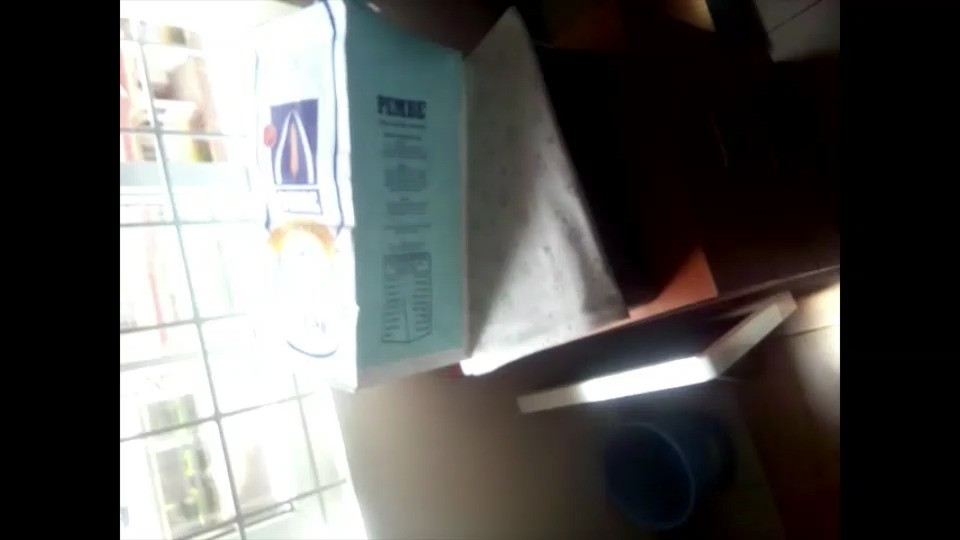wheat_flour_blue_label: (251, 0, 463, 380)
